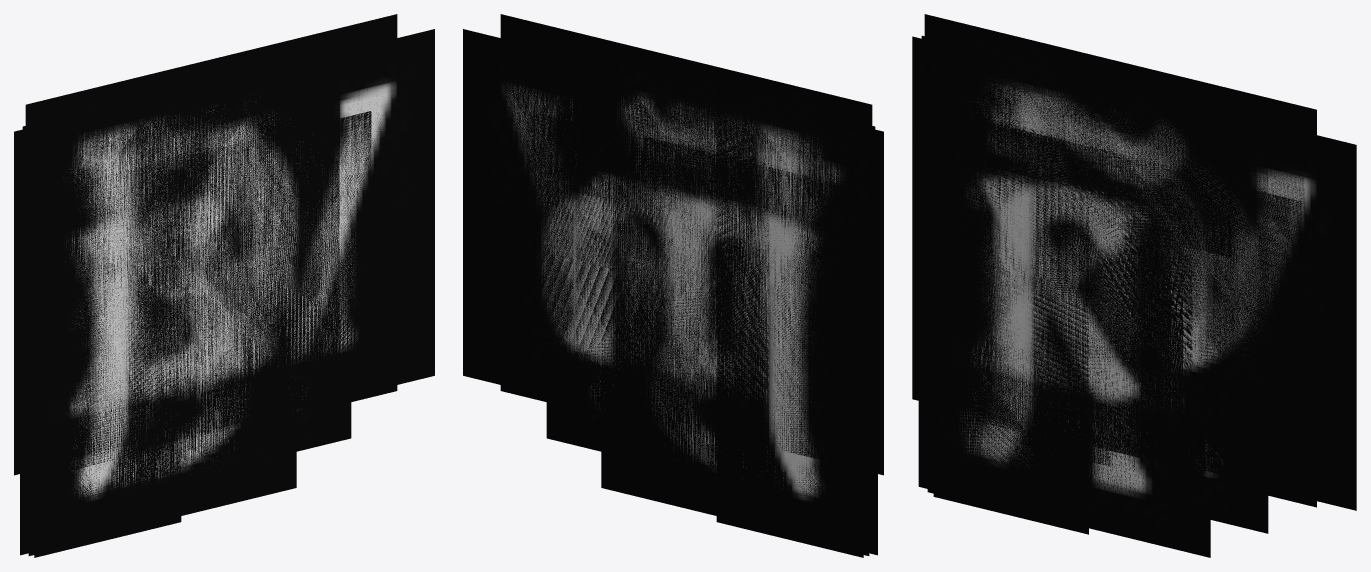
File: BardiT_outline.fbx
3 views of the same model, side by side, from view 1: azimuth 30°, elevation 25°; view 2: azimuth 150°, elevation 25°; view 3: azimuth 330°, elevation 25° (orthographic). The views are drawn at different scales.
Visible parts, largest first — view 1: Untitled.058, Untitled.077, Untitled.050, Untitled.096, Untitled.053, Untitled.074, Untitled.092, Untitled.088, Untitled.075, Untitled.093, Untitled.048, Untitled.078 (+33 smaller); view 2: Untitled.080, Untitled.060, Untitled.077, Untitled.008, Untitled.058, Untitled.092, Untitled.088, Untitled.095, Untitled.083, Untitled.086, Untitled.097, Untitled.074 (+27 smaller); view 3: Untitled.077, Untitled.091, Untitled.058, Untitled.084, Untitled.035, Untitled.052, Untitled.078, Untitled.097, Untitled.070, Untitled.092, Untitled.087, Untitled.090 (+27 smaller).
Part boxes in pixels (x1,y1,x2,y2): Untitled.058: (25, 29, 434, 411); Untitled.077: (34, 94, 181, 557); Untitled.050: (44, 49, 339, 434); Untitled.096: (34, 68, 200, 488); Untitled.053: (46, 55, 319, 430); Untitled.074: (28, 185, 296, 552); Untitled.092: (20, 163, 281, 555); Untitled.088: (40, 147, 284, 450); Untitled.075: (43, 44, 284, 426); Untitled.093: (28, 186, 249, 468); Untitled.048: (52, 80, 397, 407); Untitled.078: (37, 44, 287, 344); Untitled.080: (526, 111, 857, 419); Untitled.060: (623, 92, 883, 475); Untitled.077: (716, 92, 863, 557); Untitled.008: (500, 14, 850, 441); Untitled.058: (463, 29, 782, 408); Untitled.092: (616, 132, 877, 555); Untitled.088: (613, 132, 857, 436); Untitled.095: (716, 73, 837, 421); Untitled.083: (616, 132, 847, 536); Untitled.086: (644, 137, 860, 385); Untitled.097: (581, 33, 840, 235); Untitled.074: (601, 121, 869, 552); Untitled.077: (933, 62, 1088, 534); Untitled.091: (928, 118, 1182, 468); Untitled.058: (925, 46, 1356, 510); Untitled.084: (940, 108, 1192, 553); Untitled.035: (941, 98, 1304, 494); Untitled.052: (944, 48, 1268, 533); Untitled.078: (936, 21, 1201, 458); Untitled.097: (958, 22, 1231, 257); Untitled.070: (940, 112, 1170, 459); Untitled.092: (918, 108, 1195, 553); Untitled.087: (924, 71, 1130, 449); Untitled.090: (930, 115, 1301, 497).
Size of the model in its own units: 122 by 126 by 2.05e-05.
1 material, 1 textured.
